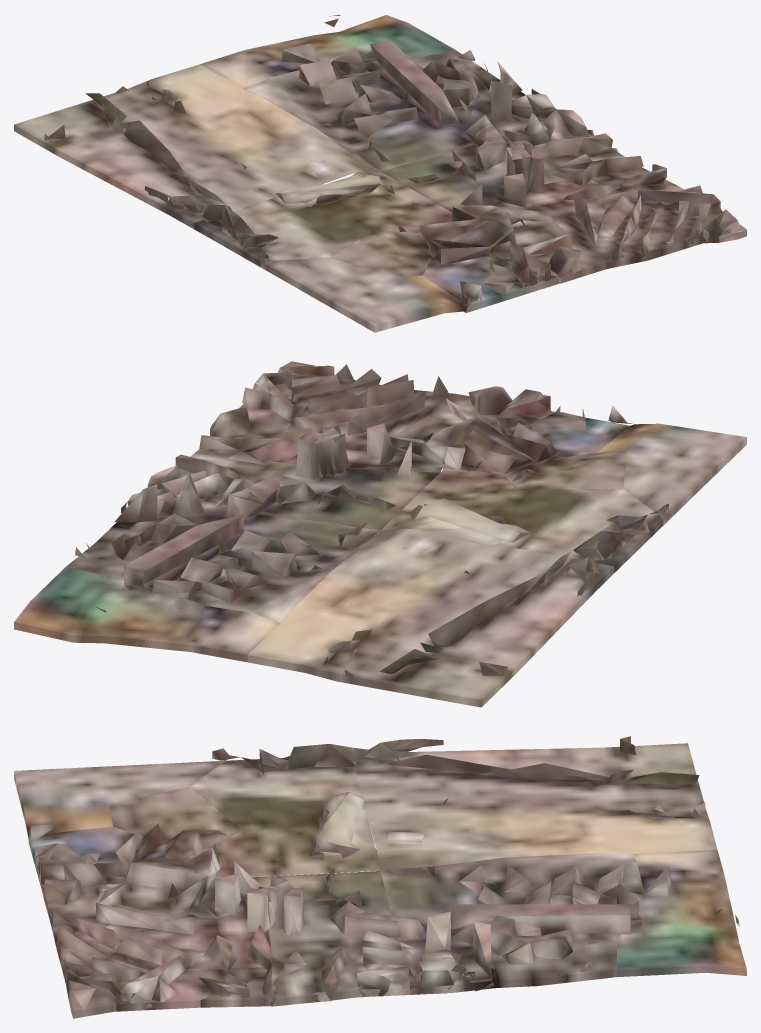
3 renders of one model, top to bottom at view 1: azimuth 30°, elevation 25°; view 2: azimuth 150°, elevation 25°; view 3: azimuth 270°, elevation 25°, orthographic. The views are drawn at different scales.
Parts seen in each view (by area): view 1: Mesh_0; view 2: Mesh_0; view 3: Mesh_0.
Part boxes in pixels (x1=…): Mesh_0: x1=14, y1=14, x2=746, y2=332; Mesh_0: x1=14, y1=361, x2=746, y2=707; Mesh_0: x1=14, y1=736, x2=746, y2=1018.
Bounding box in the file's own units: 533 × 67.13 × 659.
1 material, 1 textured.
